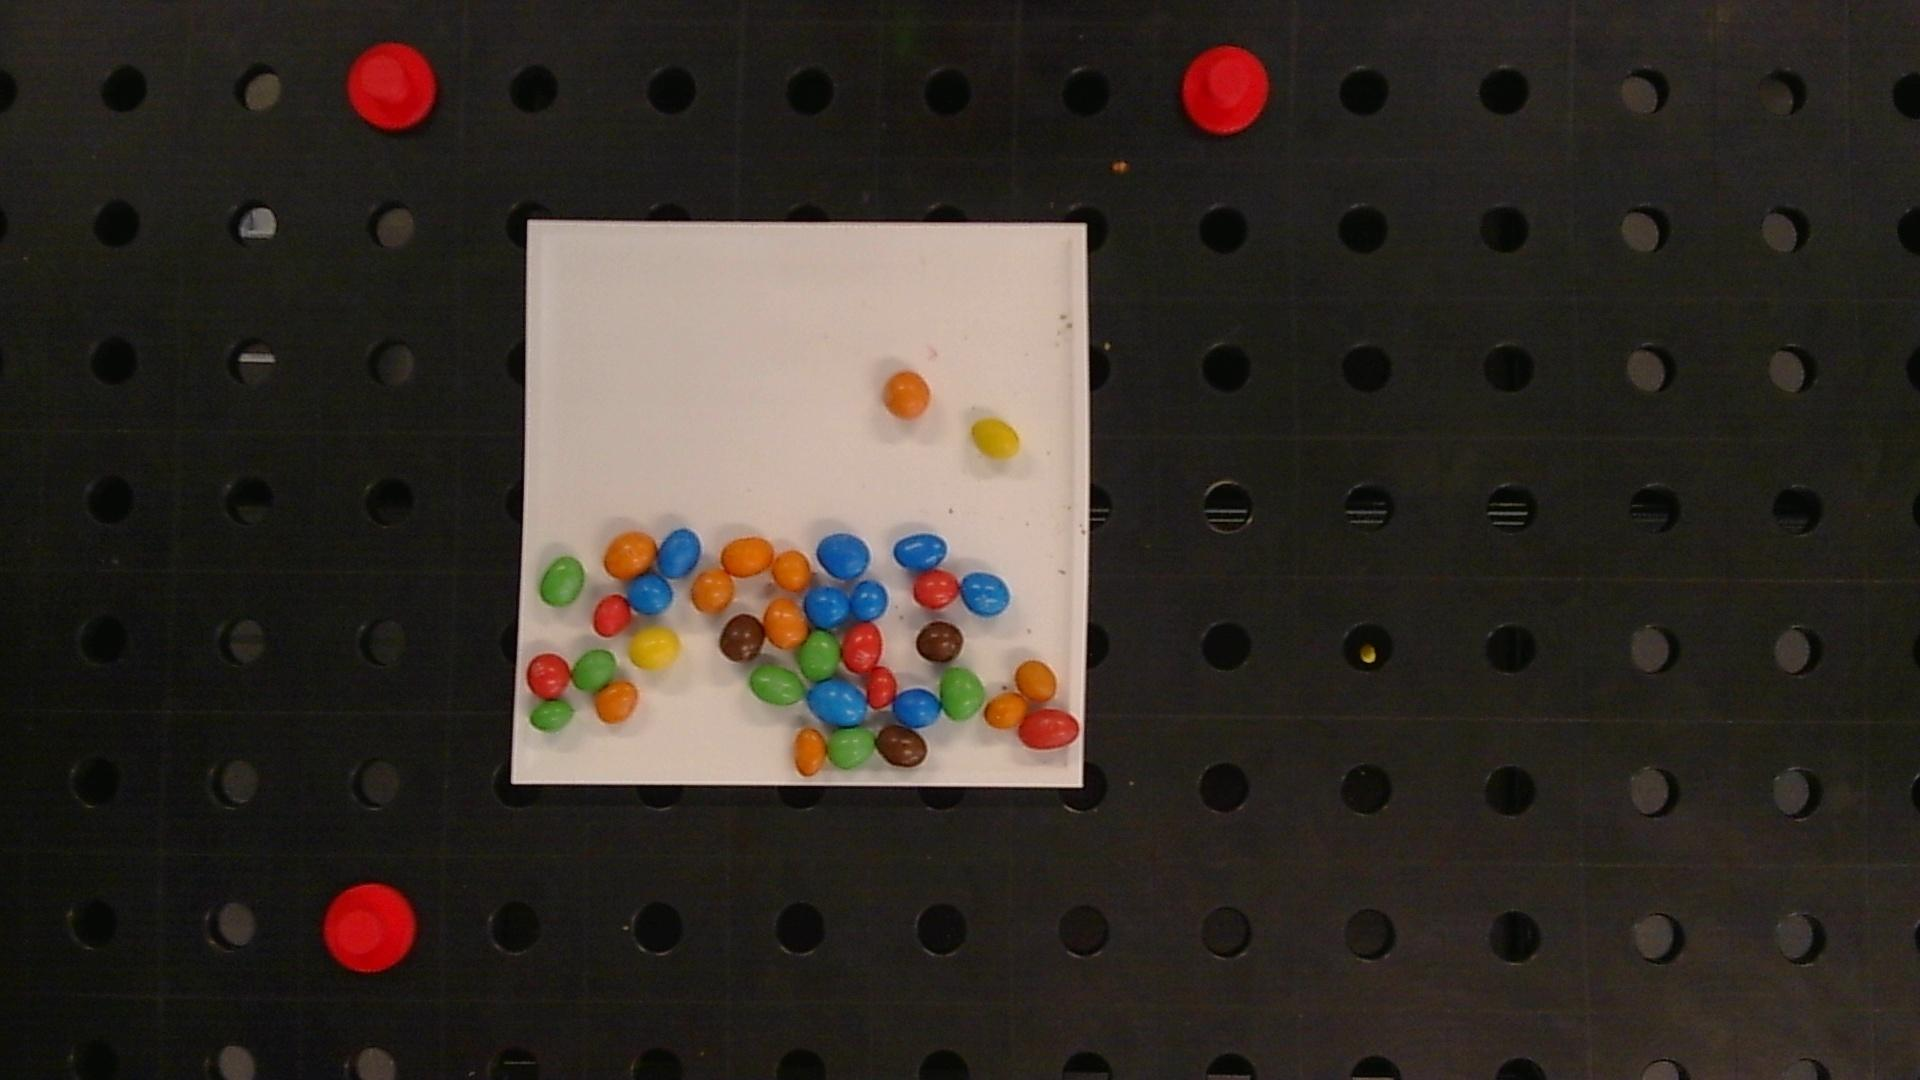blue: (808, 678, 868, 727), (816, 533, 870, 579), (657, 527, 702, 578), (893, 533, 948, 571), (961, 572, 1010, 615), (893, 688, 942, 728), (629, 572, 674, 615), (804, 587, 849, 628), (851, 580, 887, 620)
brown: (876, 724, 927, 767), (720, 613, 765, 662), (915, 621, 964, 663)
green: (940, 667, 985, 720), (539, 556, 585, 605), (749, 666, 806, 705), (827, 728, 877, 770), (799, 630, 840, 680), (572, 650, 616, 691), (529, 700, 575, 733)
orange: (603, 531, 658, 579), (884, 371, 931, 418), (764, 599, 808, 647), (721, 535, 774, 576), (691, 568, 735, 613), (593, 680, 638, 724), (1015, 659, 1058, 702), (773, 550, 811, 592), (794, 728, 827, 777), (984, 692, 1027, 728)
red: (1018, 711, 1080, 748), (526, 653, 571, 699), (843, 624, 882, 673), (913, 570, 960, 608), (592, 595, 632, 637), (866, 666, 897, 708)
yellow: (629, 626, 680, 670), (971, 418, 1021, 459)
